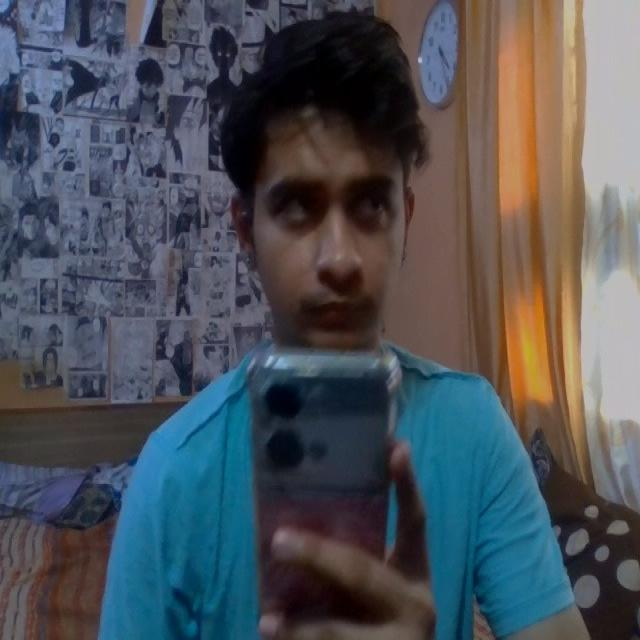phone: (243, 348, 395, 602)
using-phone: (103, 24, 589, 640)
